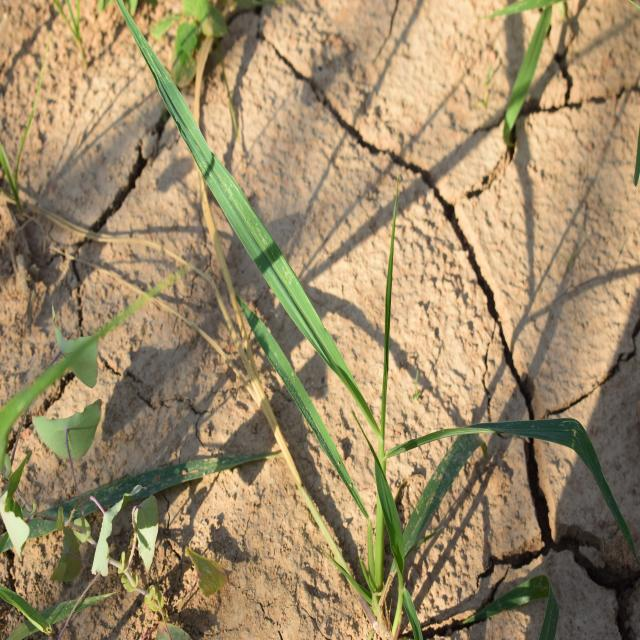green_foxtail: (168, 132, 530, 571)
